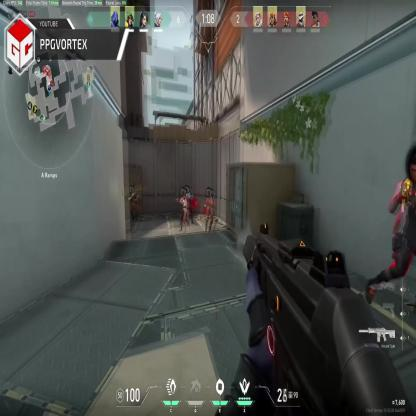enemy: (365, 142, 416, 304), (179, 186, 189, 233), (204, 186, 214, 233), (128, 188, 139, 224), (186, 186, 194, 224)
enemy_head: (406, 147, 415, 182), (180, 188, 186, 198), (206, 189, 212, 197), (187, 188, 193, 196), (128, 187, 134, 193)
